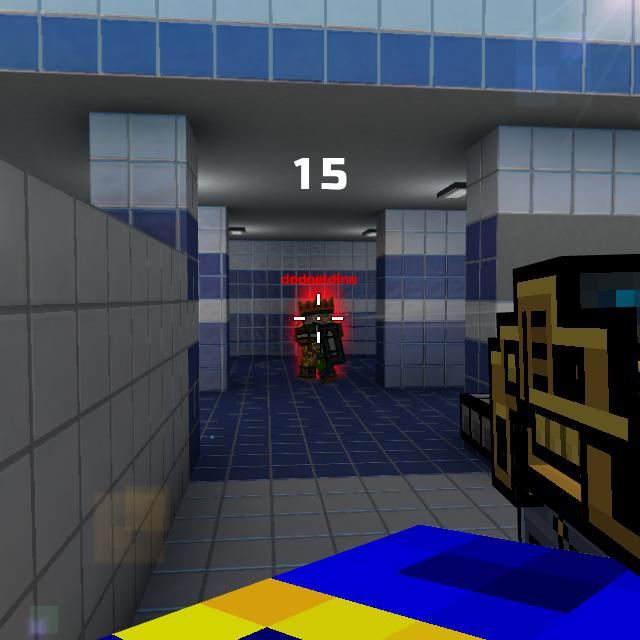Enemy: (296, 298, 347, 384)
